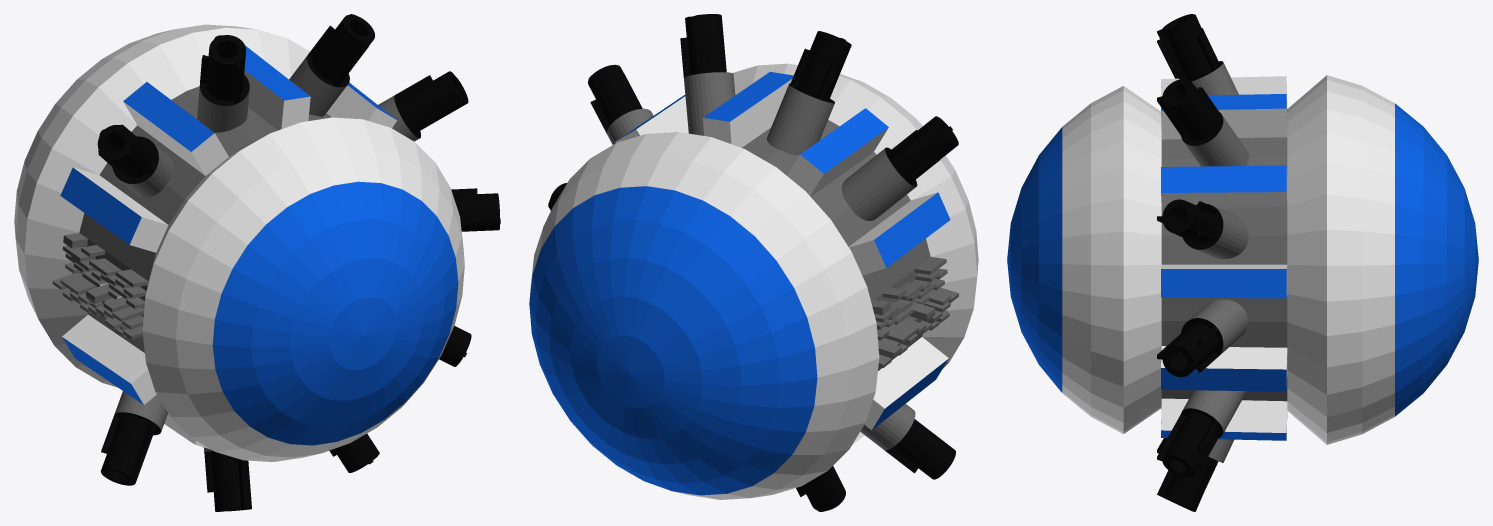
The model's file is Tower Media D.fbx.
The picture shows the model from 3 angles, left to right: view 1: azimuth 30°, elevation 25°; view 2: azimuth 150°, elevation 25°; view 3: azimuth 270°, elevation 25°; orthographic projection. The views are drawn at different scales.
Parts seen in each view (by area): view 1: Cube; view 2: Cube; view 3: Cube.
Part boxes in pixels (bbox=[...]): Cube: bbox=[14, 14, 500, 511]; Cube: bbox=[529, 14, 978, 511]; Cube: bbox=[1007, 14, 1478, 511].
Size of the model in its own units: 232 by 263 by 250.
